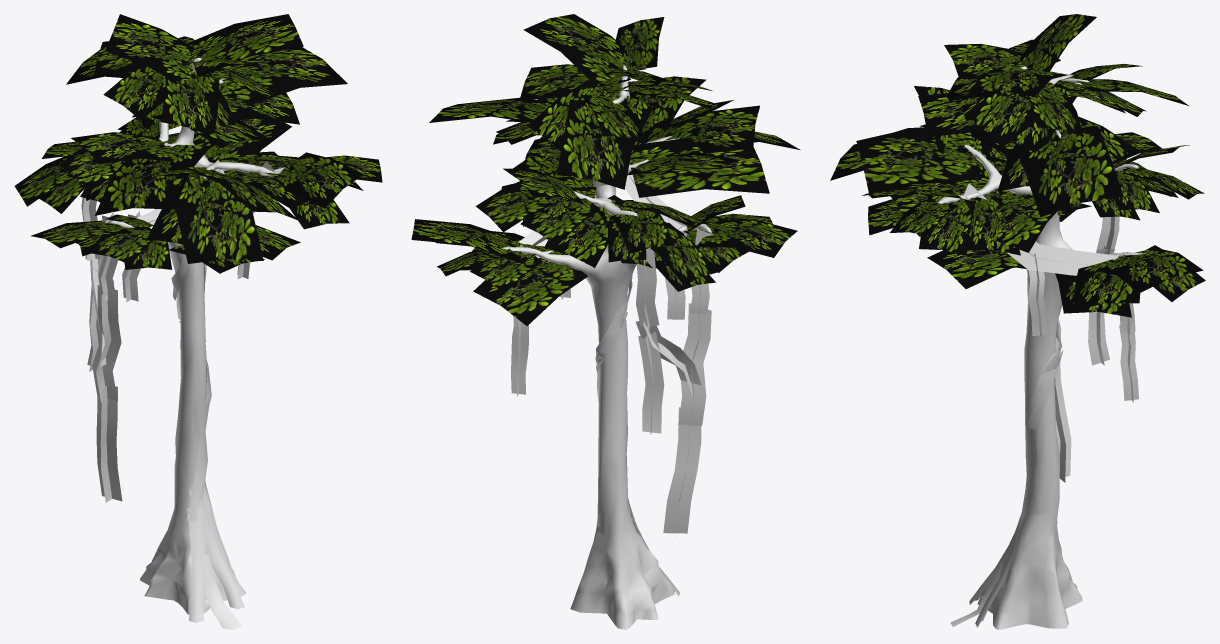
The model's file is RedwoodTree.fbx.
3 renders of one model, left to right at view 1: azimuth 30°, elevation 25°; view 2: azimuth 150°, elevation 25°; view 3: azimuth 270°, elevation 25°, orthographic. The views are drawn at different scales.
Visible parts, largest first — view 1: Redwood_Leaves, Redwood_Vines, Redwood_Trunk; view 2: Redwood_Leaves, Redwood_Trunk, Redwood_Vines; view 3: Redwood_Leaves, Redwood_Trunk, Redwood_Vines.
Part boxes in pixels (<box>): Redwood_Leaves: <box>14,14,382,273</box>; Redwood_Vines: <box>81,159,283,629</box>; Redwood_Trunk: <box>108,57,284,614</box>; Redwood_Leaves: <box>411,14,800,325</box>; Redwood_Trunk: <box>502,65,711,629</box>; Redwood_Vines: <box>511,173,713,596</box>; Redwood_Leaves: <box>830,14,1205,317</box>; Redwood_Trunk: <box>937,66,1145,629</box>; Redwood_Vines: <box>950,183,1138,627</box>.
Size of the model in its own units: 13998 by 24210 by 14091.
Materials: 3 (1 with a texture image).
